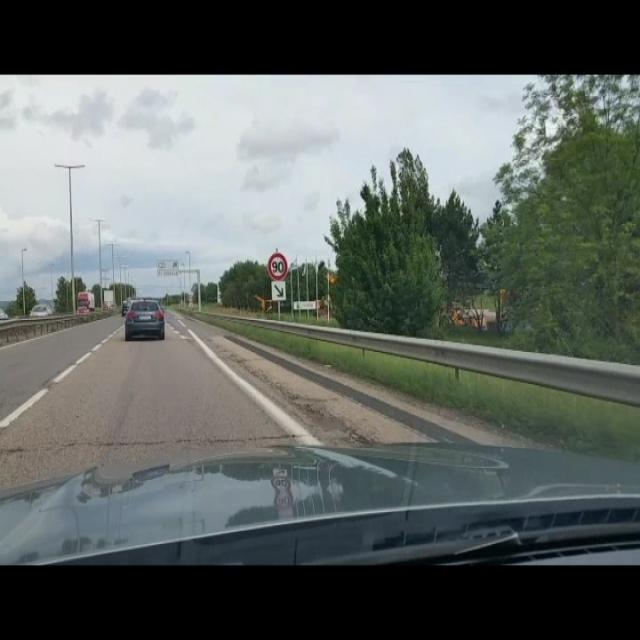direction: (157, 259, 179, 277)
side_right: (271, 280, 287, 304)
speed_90: (265, 250, 290, 280)
